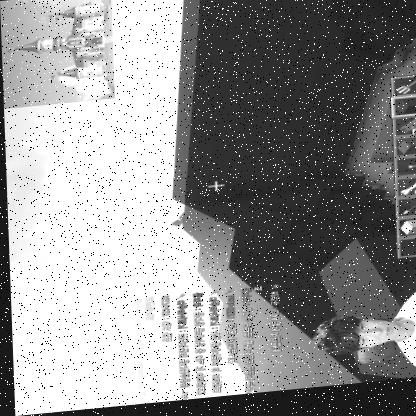streamer: (307, 287, 416, 393)
